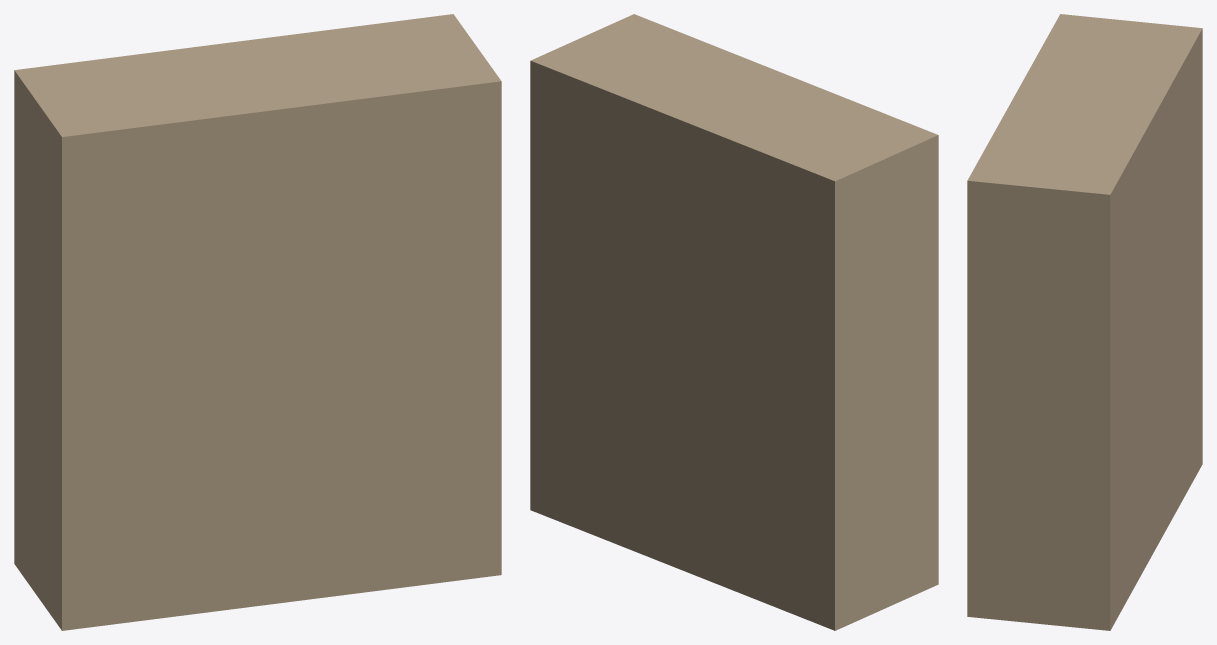
Rendered from bld_353211800.dae.
3 renders of one model, left to right at view 1: azimuth 30°, elevation 25°; view 2: azimuth 150°, elevation 25°; view 3: azimuth 270°, elevation 25°, orthographic. The views are drawn at different scales.
Visible parts, largest first — view 1: bld_353211800; view 2: bld_353211800; view 3: bld_353211800.
Boxes of the visible parts, x1,y1,x2,y2 form: bld_353211800: (14,14,501,630); bld_353211800: (530,14,938,630); bld_353211800: (967,14,1202,630).
Bounding box in the file's own units: 7.12 × 3.91 × 8.
